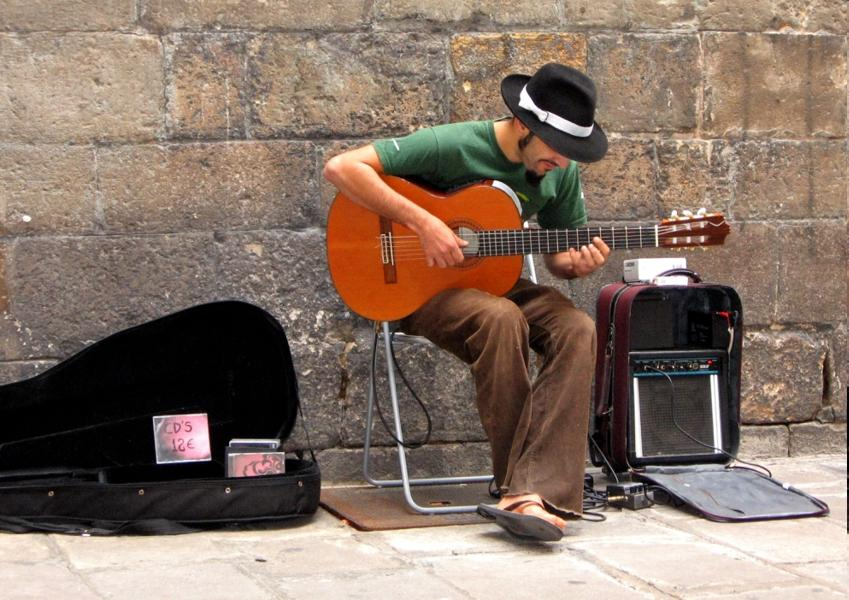person: (321, 64, 612, 542)
